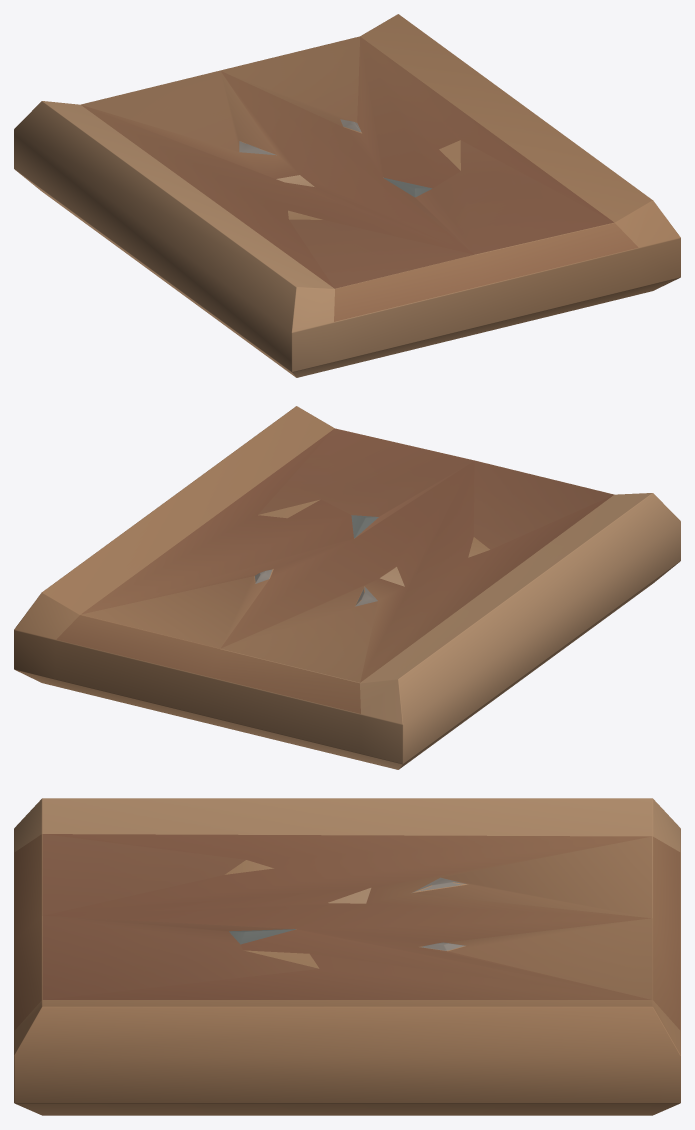
The model's file is Road.fbx.
3 renders of one model, top to bottom at view 1: azimuth 30°, elevation 25°; view 2: azimuth 150°, elevation 25°; view 3: azimuth 270°, elevation 25°, orthographic. The views are drawn at different scales.
Parts seen in each view (by area): view 1: Cube; view 2: Cube; view 3: Cube.
Boxes of the visible parts, x1=… form: Cube: x1=14, y1=14, x2=680, y2=377; Cube: x1=14, y1=406, x2=680, y2=769; Cube: x1=14, y1=798, x2=680, y2=1115.
Bounding box in the file's own units: 450 × 100 × 557.
